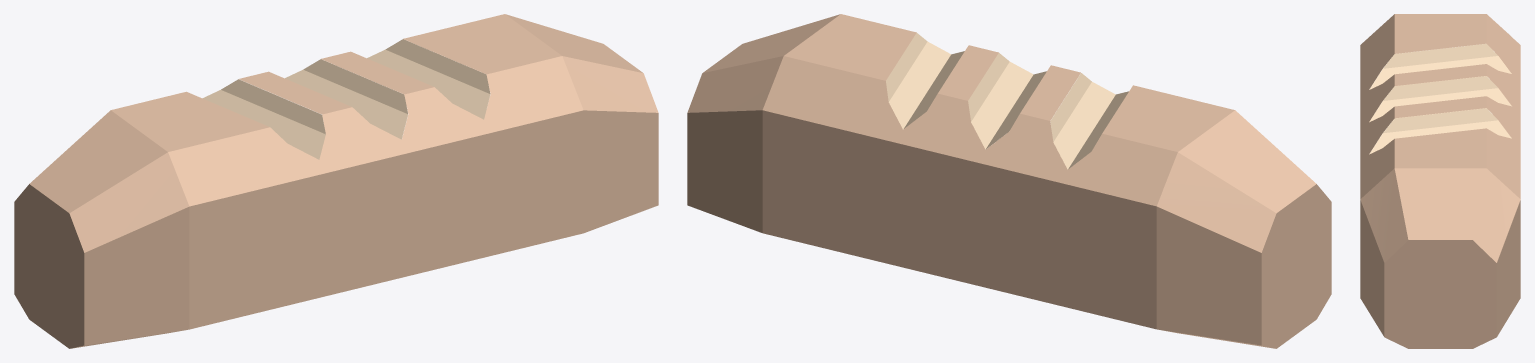
The model's file is baguette.glb.
The picture shows the model from 3 angles, left to right: view 1: azimuth 30°, elevation 25°; view 2: azimuth 150°, elevation 25°; view 3: azimuth 270°, elevation 25°; orthographic projection. The views are drawn at different scales.
Visible parts, largest first — view 1: loafBaguette; view 2: loafBaguette; view 3: loafBaguette.
Boxes of the visible parts, x1,y1,x2,y2 form: loafBaguette: (14,14,658,348); loafBaguette: (687,14,1331,348); loafBaguette: (1360,14,1520,348).
Size of the model in its own units: 0.6 by 0.1809 by 0.1809.
